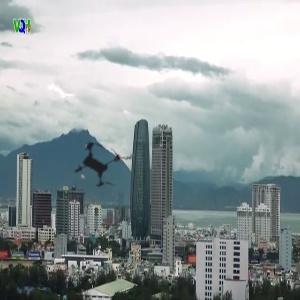drone: (43, 113, 154, 224)
